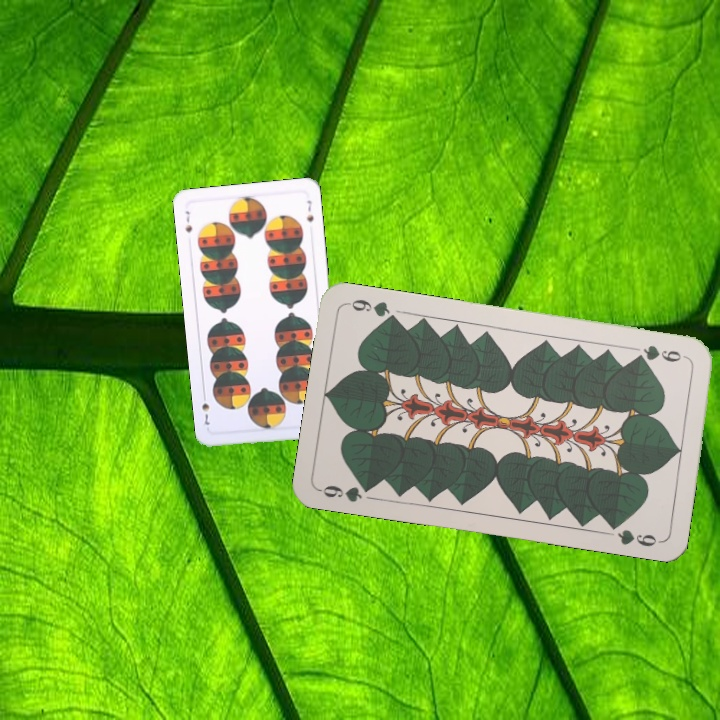G9: (316, 479, 376, 505), (632, 341, 690, 365)
S7: (181, 207, 195, 235)
